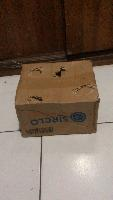damaged package: (69, 82, 95, 94), (51, 63, 66, 79), (25, 65, 43, 76), (30, 92, 45, 103)
undamaged: (10, 57, 102, 138)
